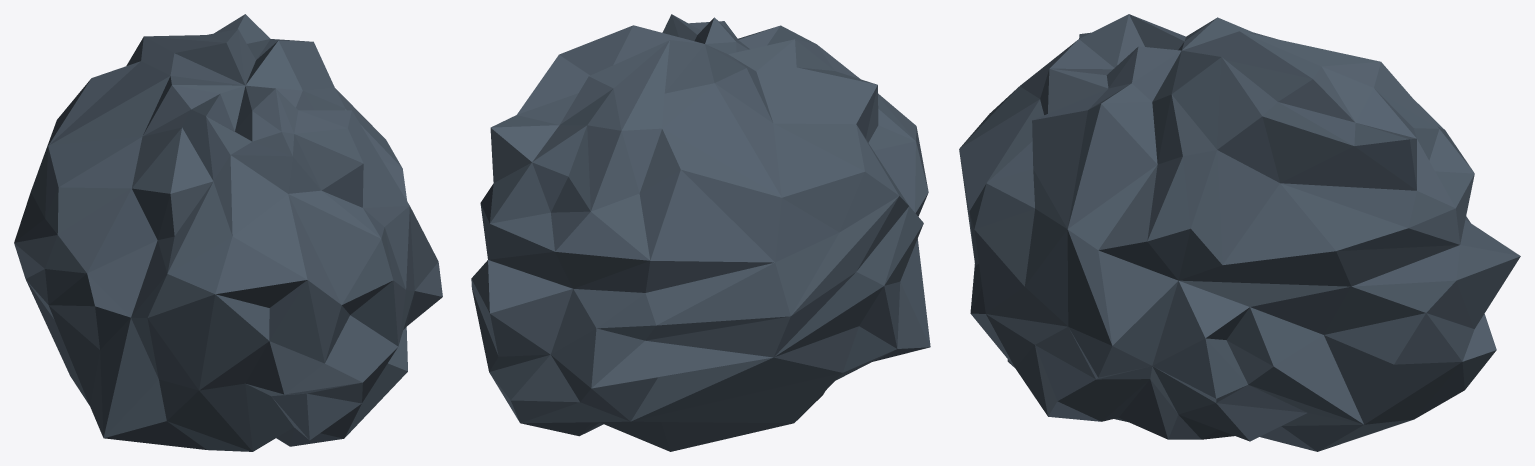
File: meteor.fbx
3 renders of one model, left to right at view 1: azimuth 30°, elevation 25°; view 2: azimuth 150°, elevation 25°; view 3: azimuth 270°, elevation 25°, orthographic. The views are drawn at different scales.
Parts seen in each view (by area): view 1: Meteor; view 2: Meteor; view 3: Meteor.
Part boxes in pixels (bbox=[...]): Meteor: bbox=[14, 14, 442, 451]; Meteor: bbox=[471, 14, 930, 451]; Meteor: bbox=[959, 14, 1520, 451].
Bounding box in the file's own units: 231 × 225 × 290.
